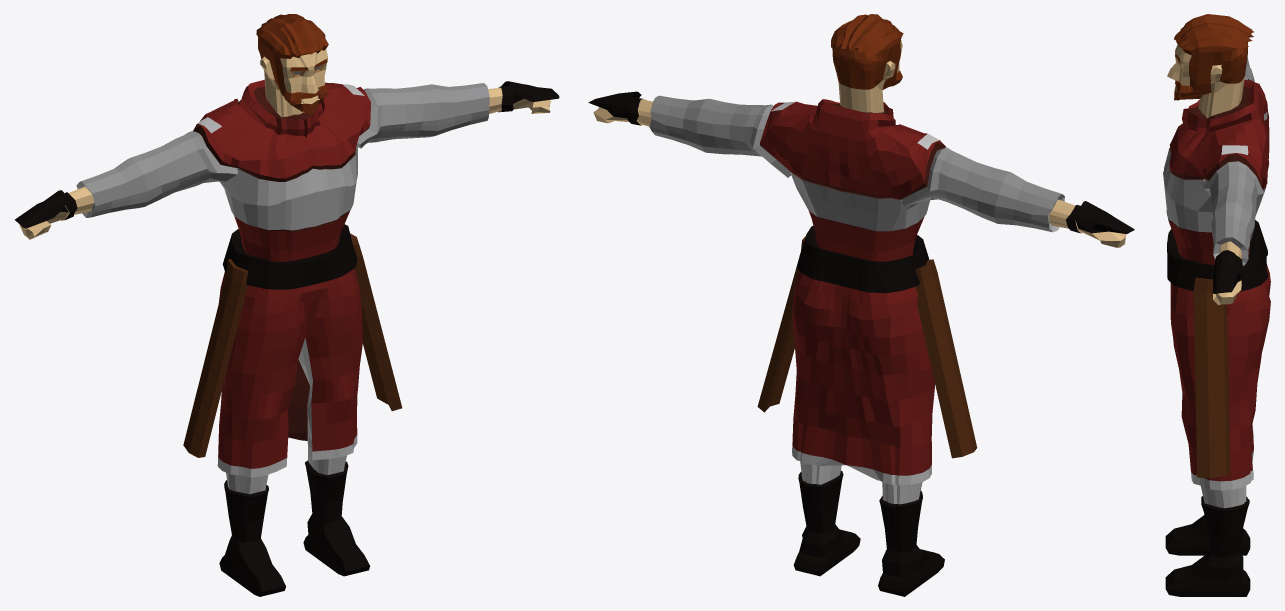
The model's file is Map1Enemy2.fbx.
The picture shows the model from 3 angles, left to right: view 1: azimuth 30°, elevation 25°; view 2: azimuth 150°, elevation 25°; view 3: azimuth 270°, elevation 25°; orthographic projection.
Visible parts, largest first — view 1: Plane; view 2: Plane; view 3: Plane.
Boxes of the visible parts, x1,y1,x2,y2 form: Plane: (15, 14, 559, 596); Plane: (588, 14, 1134, 596); Plane: (1163, 14, 1270, 596).
Bounding box in the file's own units: 200 × 197 × 34.73.
